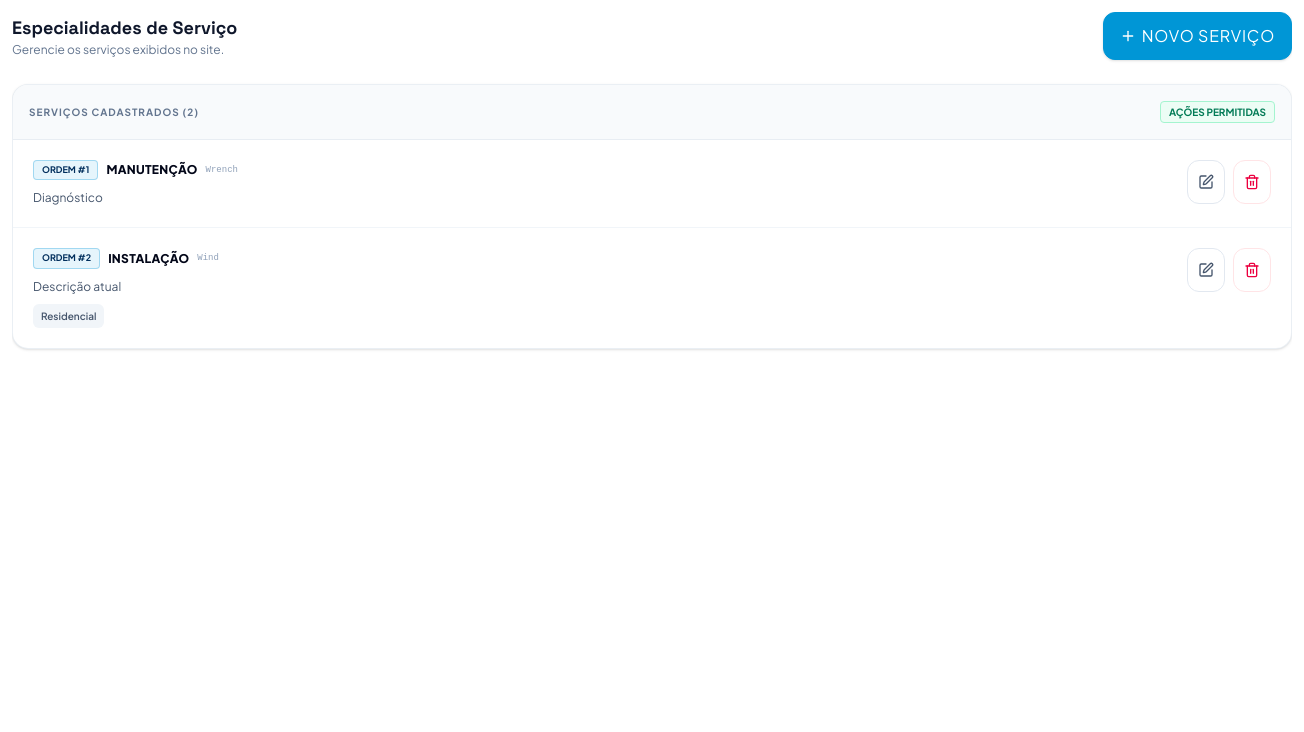
gerenciamento administrativo de serviços › edita e reordena um serviço existente
Click the button named "Editar Instalação" at (1206, 270), box x1=1187 y1=248 x2=1225 y2=292
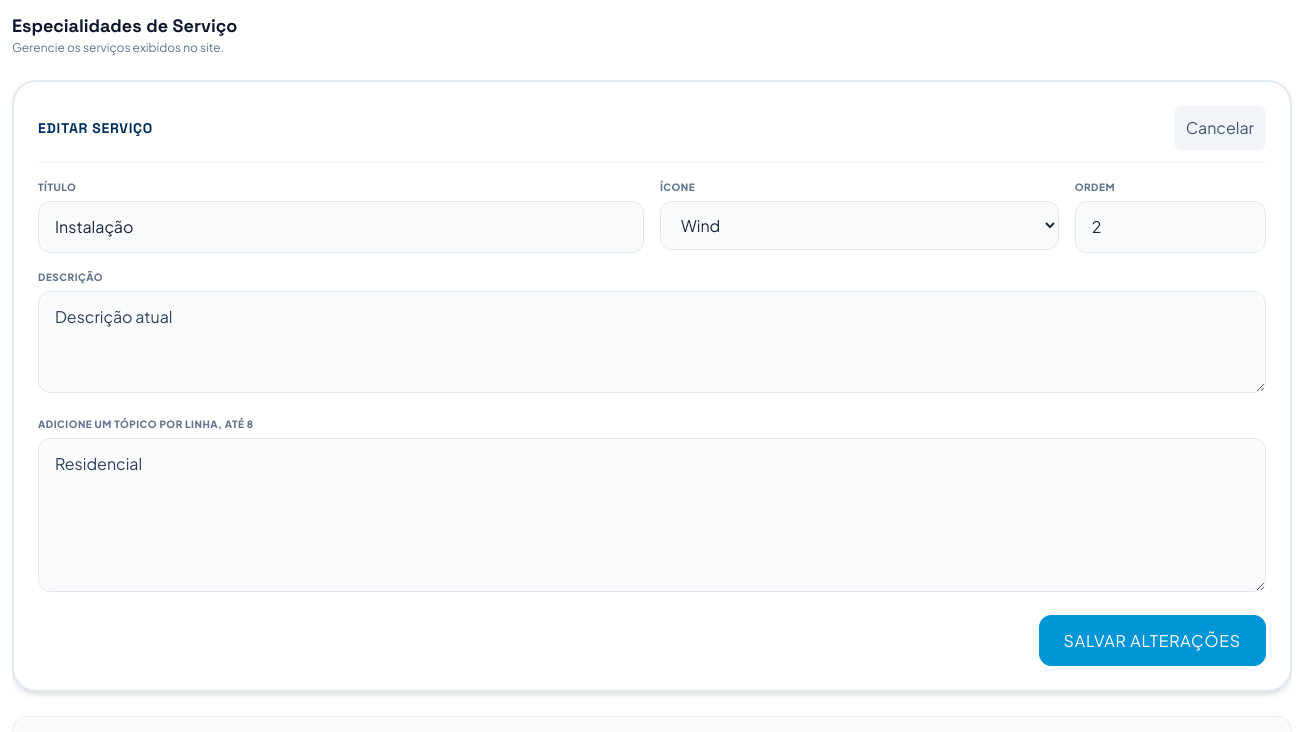
Replace the text in the field labelled "Título" with "Instalação atualizada" at (341, 227), box x1=38 y1=201 x2=644 y2=253
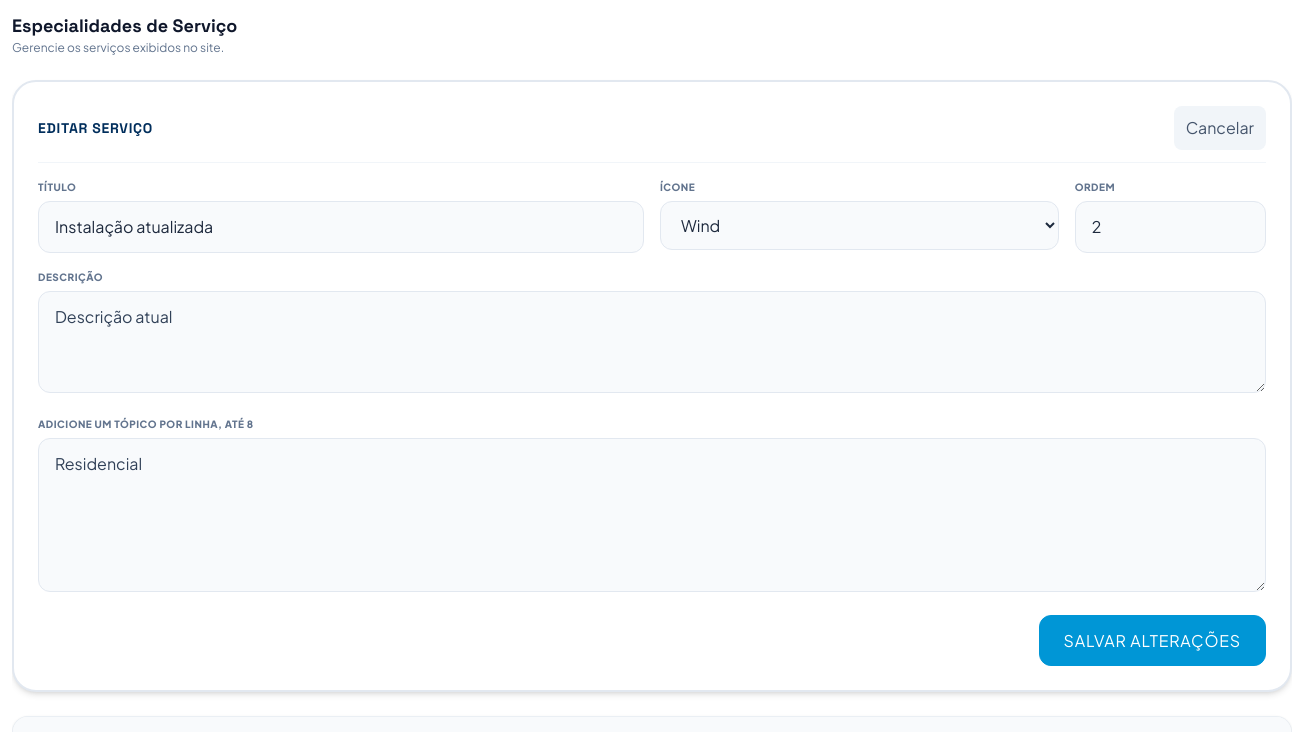
Replace the text in the number field labelled "Ordem" with "0" at (1170, 227), box x1=1075 y1=201 x2=1266 y2=253
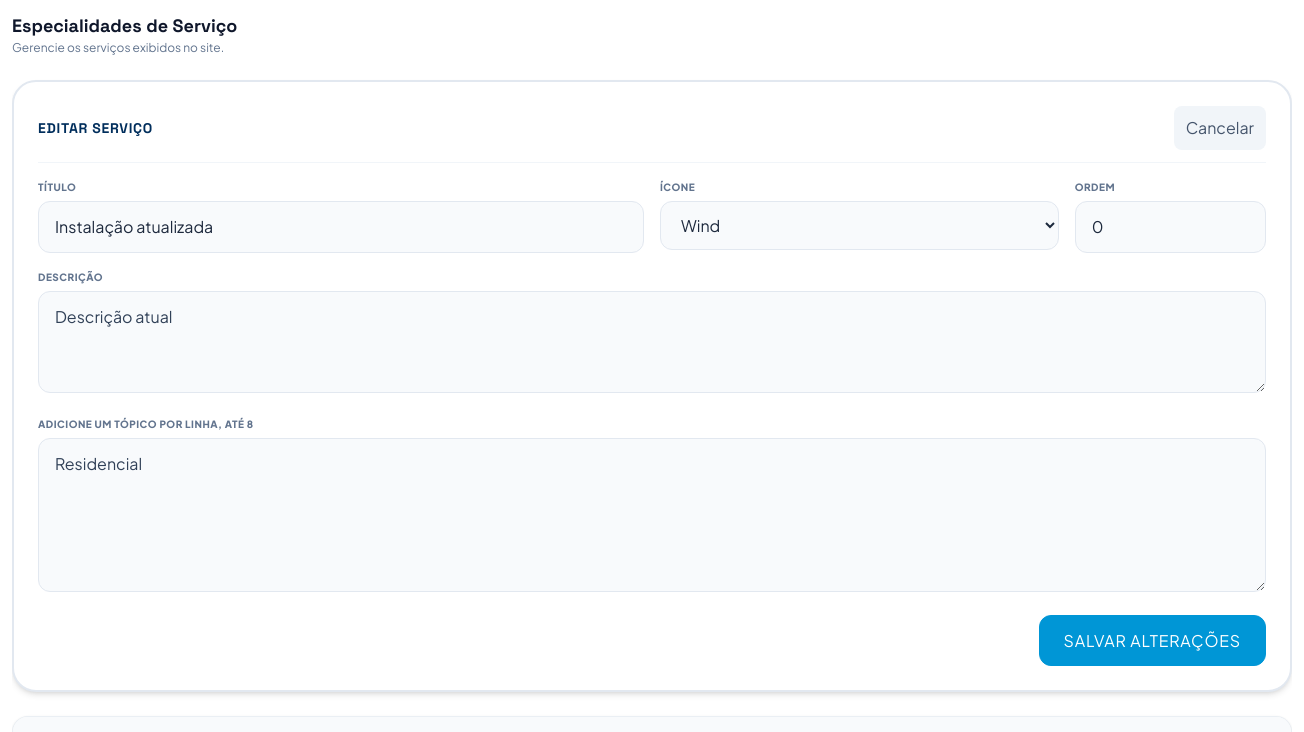
Click the button "Salvar alterações" at (1152, 640), box x1=1038 y1=614 x2=1266 y2=666
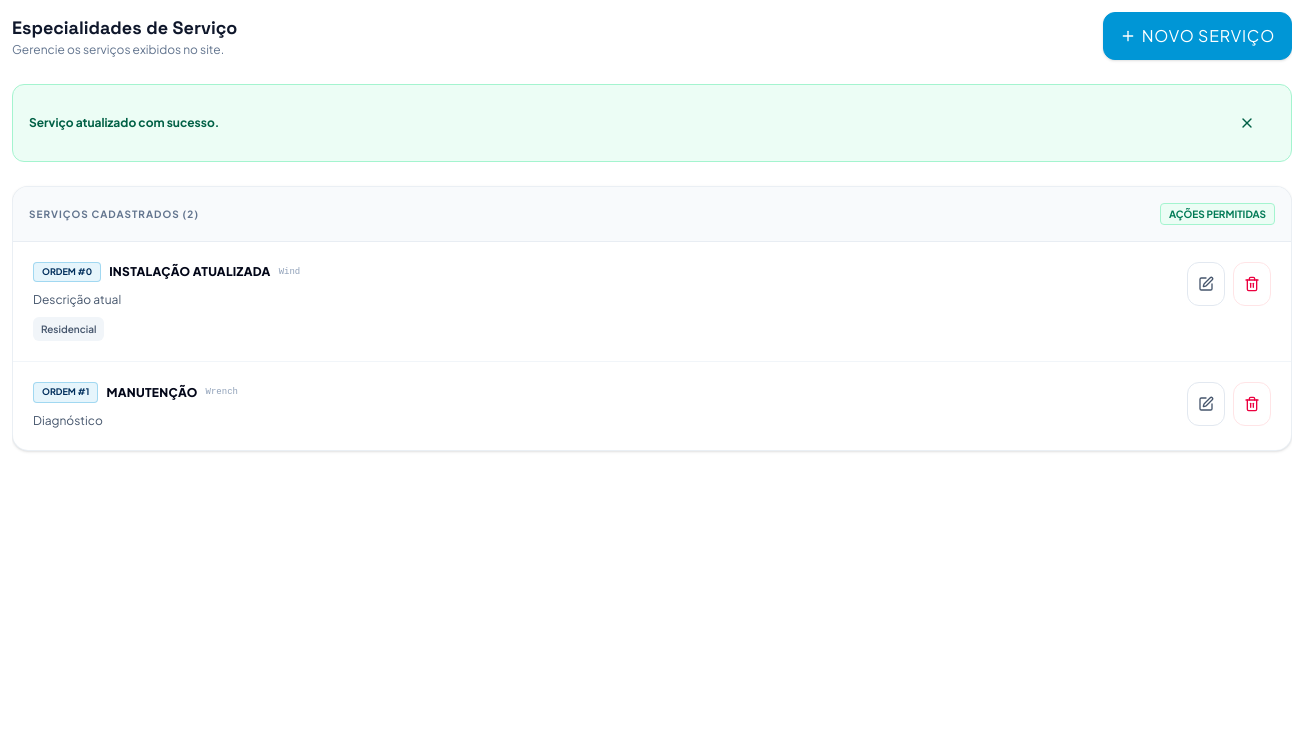
Expected: the text "Serviço atualizado com sucesso." is shown, x1=29 y1=115 x2=219 y2=131
Expected: the heading "Instalação atualizada" is shown, x1=109 y1=264 x2=271 y2=280
